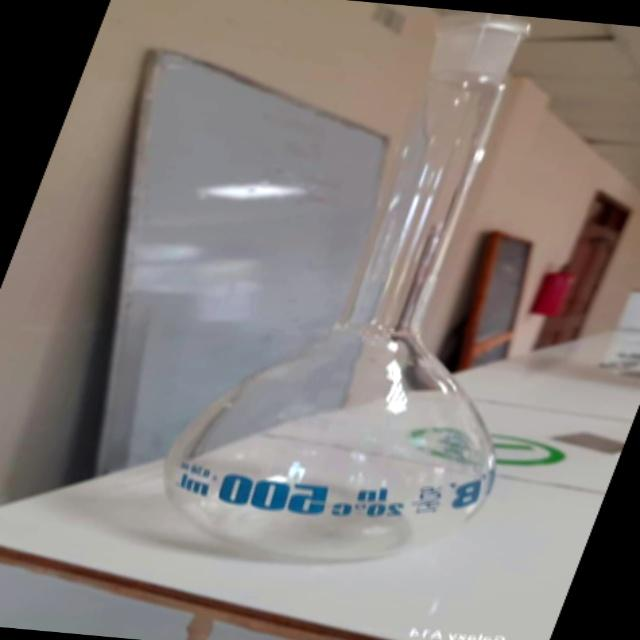Volumetric flask: (121, 2, 640, 578)
